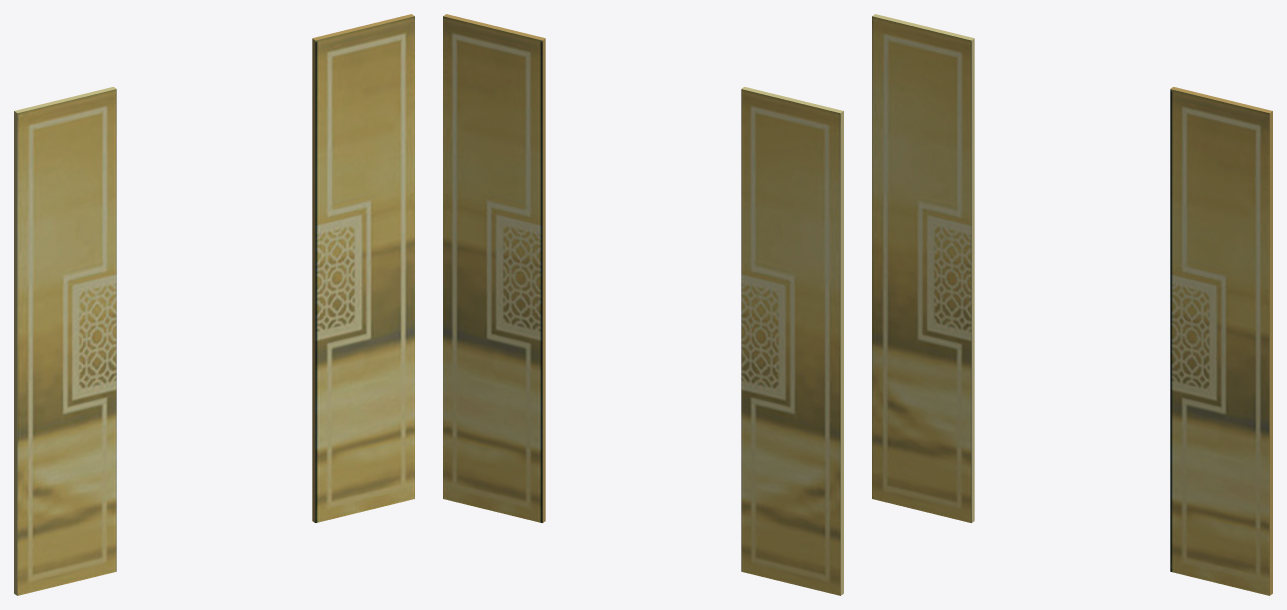
File: landing_door_TM019.glb
3 views of the same model, side by side, from view 1: azimuth 30°, elevation 25°; view 2: azimuth 150°, elevation 25°; view 3: azimuth 330°, elevation 25° (orthographic).
Parts seen in each view (by area): view 1: Landing_Door_L, Landing_Door_R; view 2: Landing_Door_L, Landing_Door_R; view 3: Landing_Door_L, Landing_Door_R.
Part boxes in pixels (<box>): Landing_Door_L: <box>14,87,116,595</box>; Landing_Door_R: <box>312,14,414,522</box>; Landing_Door_L: <box>741,87,843,595</box>; Landing_Door_R: <box>443,14,545,522</box>; Landing_Door_L: <box>872,14,974,522</box>; Landing_Door_R: <box>1170,87,1272,595</box>.
Size of the model in its own units: 1.81 by 2.1 by 0.025.
1 material, 1 textured.
